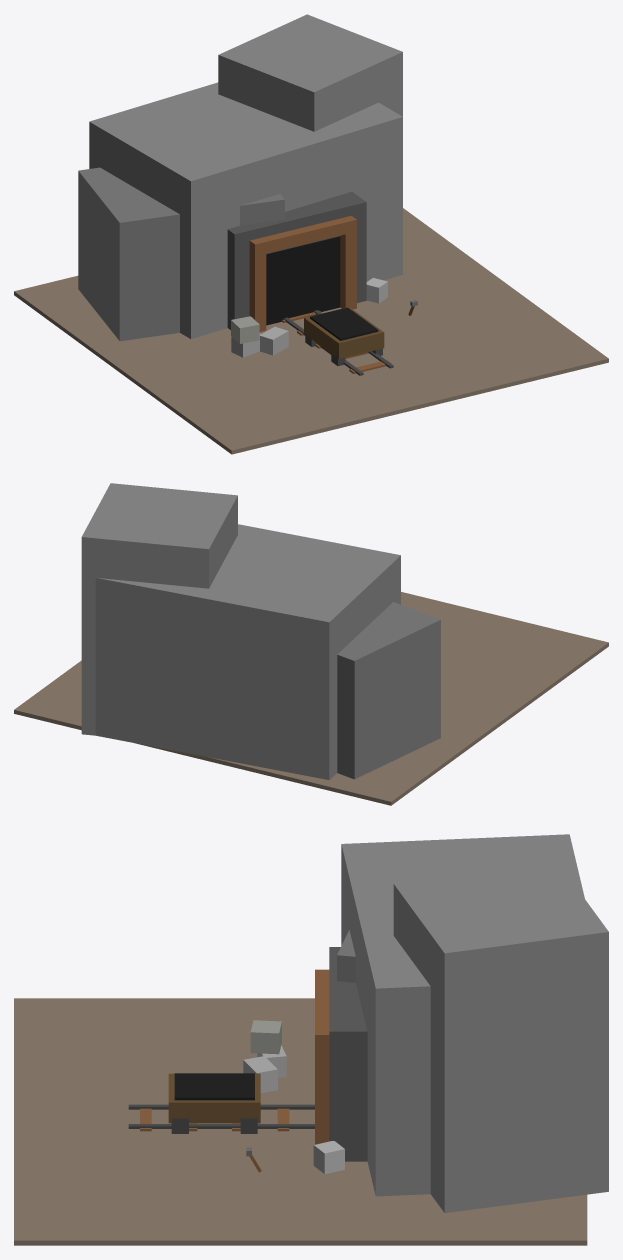
Rendered from stone_mine.glb.
The picture shows the model from 3 angles, top to bottom: view 1: azimuth 30°, elevation 25°; view 2: azimuth 150°, elevation 25°; view 3: azimuth 270°, elevation 25°; orthographic projection. The views are drawn at different scales.
Visible parts, largest first — view 1: GroundPlane, MountainBase, MountainSideLeft, MountainPeak, EntranceFacade, ShaftOpening, TimberTop, CartBody, TimberLeft, TimberRight, CartInterior, StoneBlock2 (+1 smaller); view 2: MountainBase, GroundPlane, MountainPeak, MountainSideLeft; view 3: GroundPlane, MountainPeak, MountainBase, EntranceFacade, CartBody, CartInterior, TimberRight, TimberTop, StoneBlock2, StoneIndicator, StoneBlock3, MountainSideLeft (+2 smaller).
Boxes of the visible parts, x1=… form: GroundPlane: x1=14, y1=208, x2=608, y2=454; MountainBase: x1=89, y1=82, x2=402, y2=338; MountainSideLeft: x1=78, y1=167, x2=284, y2=341; MountainPeak: x1=218, y1=14, x2=402, y2=131; EntranceFacade: x1=227, y1=191, x2=366, y2=329; ShaftOpening: x1=266, y1=236, x2=340, y2=325; TimberTop: x1=249, y1=216, x2=356, y2=256; CartBody: x1=304, y1=307, x2=384, y2=358; TimberLeft: x1=249, y1=243, x2=266, y2=331; TimberRight: x1=340, y1=221, x2=356, y2=309; CartInterior: x1=310, y1=307, x2=378, y2=340; StoneBlock2: x1=231, y1=316, x2=259, y2=343; MountainBase: x1=95, y1=524, x2=400, y2=780; GroundPlane: x1=14, y1=592, x2=608, y2=805; MountainPeak: x1=81, y1=483, x2=237, y2=735; MountainSideLeft: x1=337, y1=602, x2=440, y2=779; GroundPlane: x1=14, y1=998, x2=587, y2=1245; MountainPeak: x1=393, y1=862, x2=608, y2=1213; MountainBase: x1=341, y1=834, x2=584, y2=1196; EntranceFacade: x1=329, y1=947, x2=367, y2=1161; CartBody: x1=168, y1=1073, x2=260, y2=1123; CartInterior: x1=174, y1=1073, x2=254, y2=1100; TimberRight: x1=315, y1=1037, x2=329, y2=1144; TimberTop: x1=315, y1=969, x2=329, y2=1050; StoneBlock2: x1=250, y1=1020, x2=281, y2=1054; StoneIndicator: x1=313, y1=1141, x2=344, y2=1174; StoneBlock3: x1=243, y1=1056, x2=277, y2=1092; MountainSideLeft: x1=337, y1=930, x2=355, y2=982.
Size of the model in its own units: 10 by 5.1 by 10.38.
